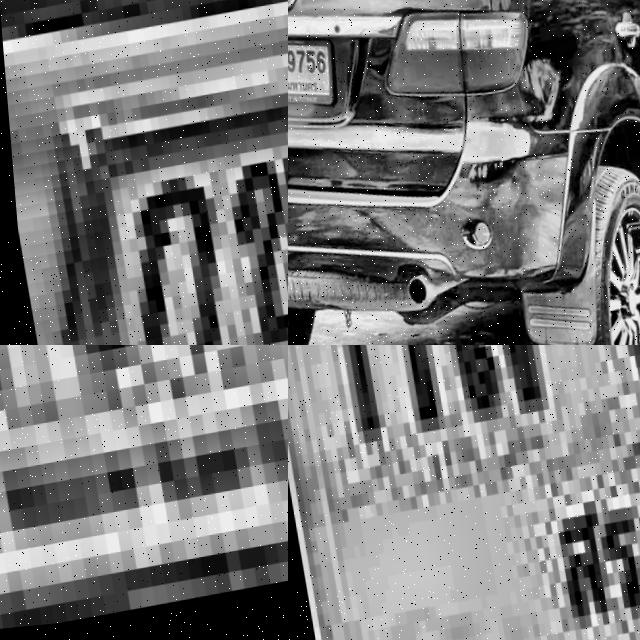license-plate: (288, 345, 640, 640), (3, 0, 288, 345), (0, 345, 288, 640), (288, 41, 325, 105)
